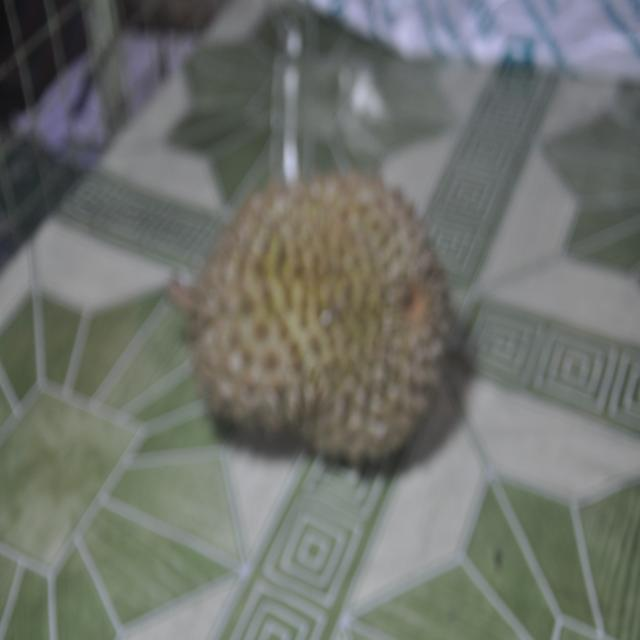mature: (150, 158, 463, 502)
